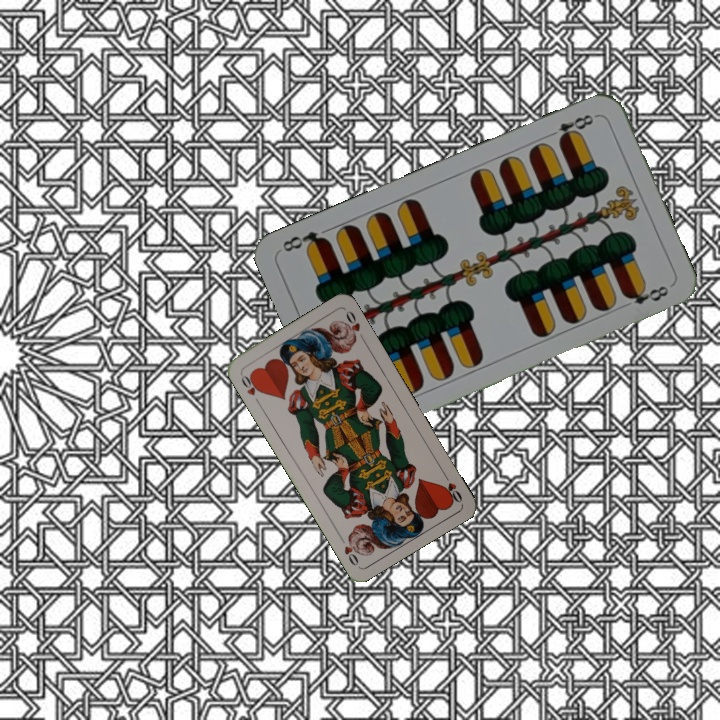E8: (543, 110, 600, 146)
HO: (237, 370, 264, 407), (438, 468, 465, 505)
